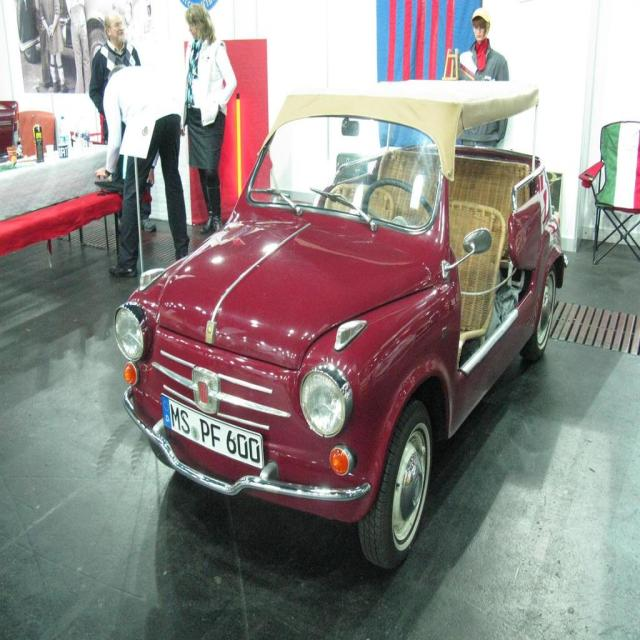car: (111, 78, 570, 570)
